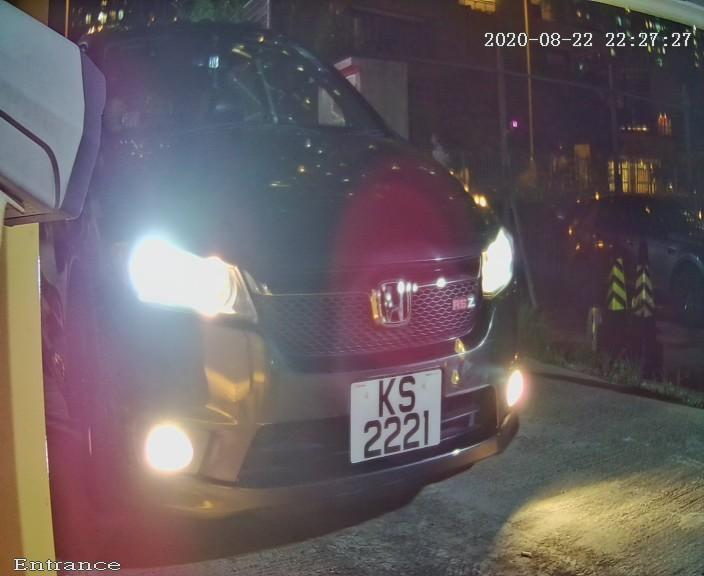License Plate: (340, 366, 447, 469)
